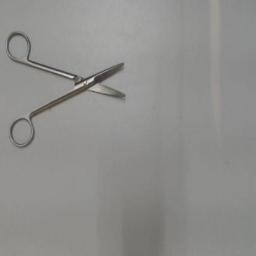Curved Mayo Scissors: (4, 28, 130, 154)
